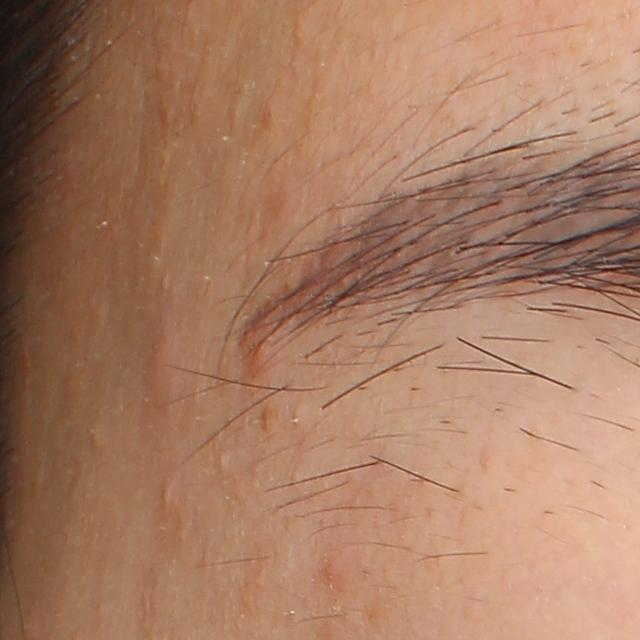papule: (155, 481, 175, 510)
